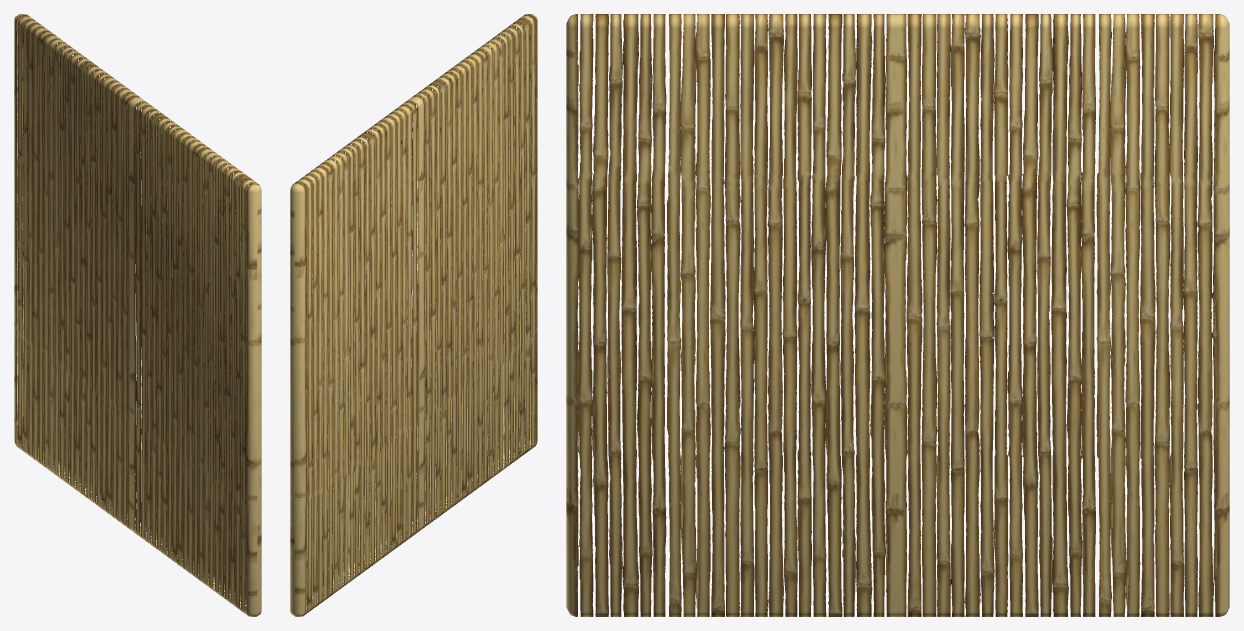
The model's file is BambooWall.FBX.
3 views of the same model, side by side, from view 1: azimuth 30°, elevation 25°; view 2: azimuth 150°, elevation 25°; view 3: azimuth 270°, elevation 25° (orthographic). The views are drawn at different scales.
Visible parts, largest first — view 1: BambooWall; view 2: BambooWall; view 3: BambooWall.
Part boxes in pixels (x1,y1,x2,y2): BambooWall: [14, 14, 261, 616]; BambooWall: [290, 14, 537, 616]; BambooWall: [566, 14, 1229, 616].
Size of the model in its own units: 0.0666 by 2 by 2.
1 material, 1 textured.
